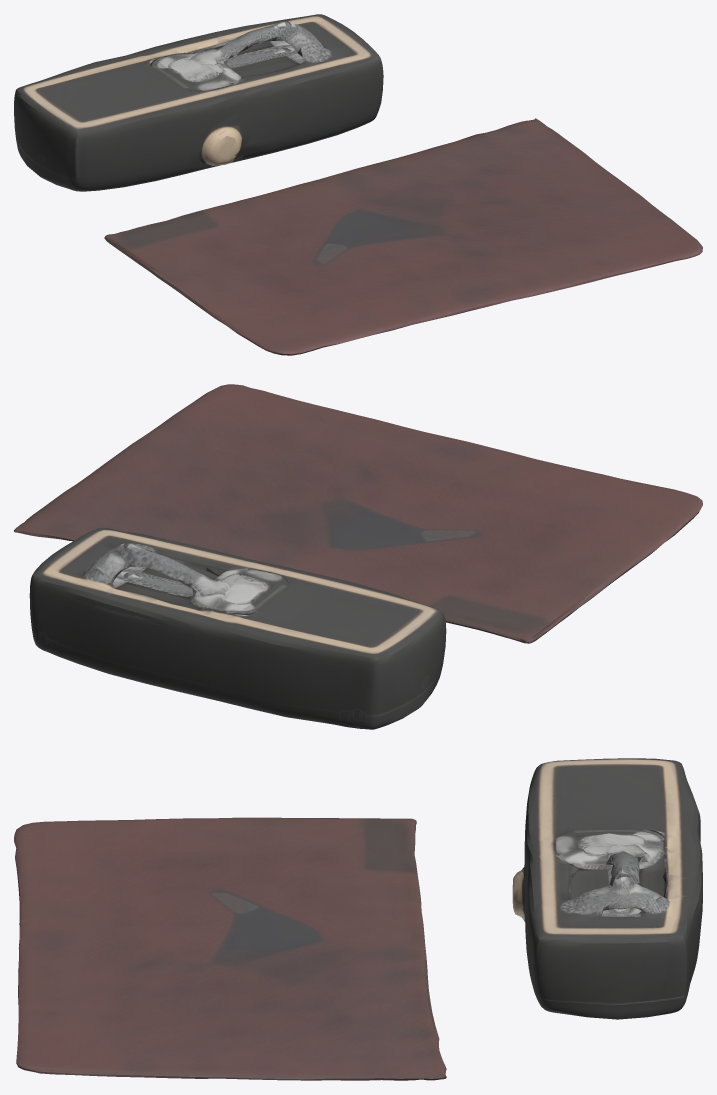
Rendered from desk_pen_tray_nostalgy.fbx.
The picture shows the model from 3 angles, top to bottom: view 1: azimuth 30°, elevation 25°; view 2: azimuth 150°, elevation 25°; view 3: azimuth 270°, elevation 25°; orthographic projection. The views are drawn at different scales.
Parts seen in each view (by area): view 1: pen_tray; view 2: pen_tray; view 3: pen_tray.
Boxes of the visible parts, <box> form: pen_tray: <box>14,14,702,355</box>; pen_tray: <box>14,384,702,729</box>; pen_tray: <box>14,758,702,1080</box>.
Size of the model in its own units: 0.598 by 0.1209 by 0.6713.
1 material, 1 textured.
